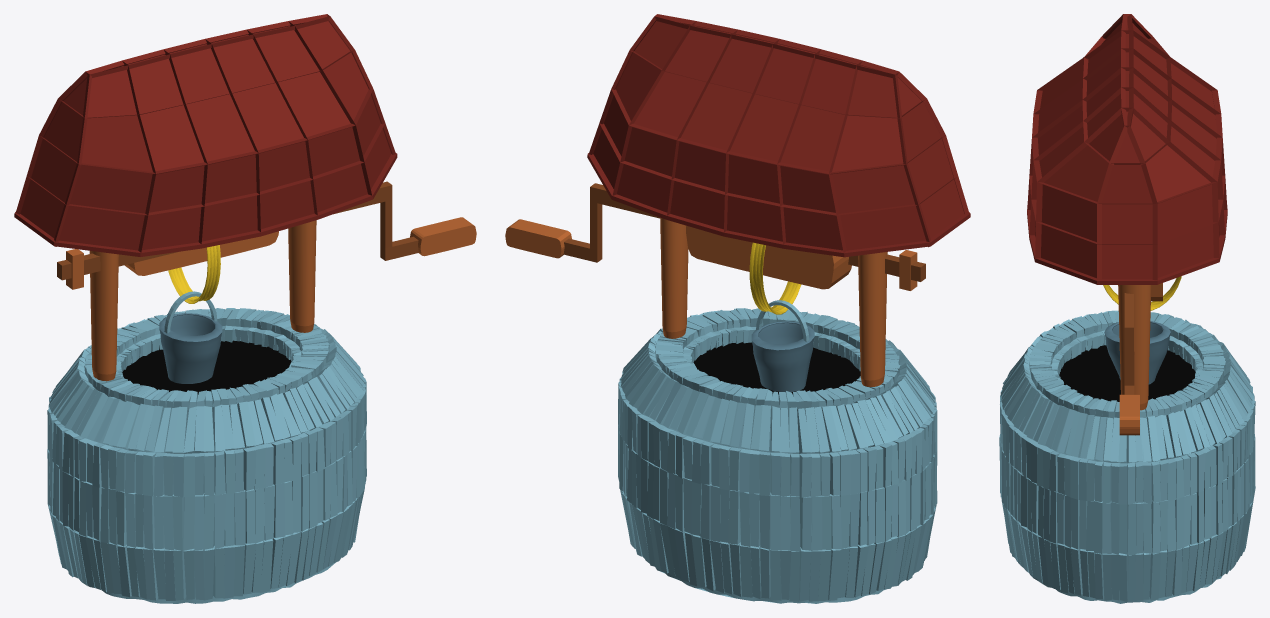
Rendered from well.fbx.
3 views of the same model, side by side, from view 1: azimuth 30°, elevation 25°; view 2: azimuth 150°, elevation 25°; view 3: azimuth 270°, elevation 25° (orthographic). The views are drawn at different scales.
Parts seen in each view (by area): view 1: Well; view 2: Well; view 3: Well.
Boxes of the visible parts, x1=… form: Well: x1=14, y1=14, x2=476, y2=603; Well: x1=505, y1=14, x2=970, y2=603; Well: x1=999, y1=14, x2=1255, y2=603.
Size of the model in its own units: 395 by 439 by 213.
